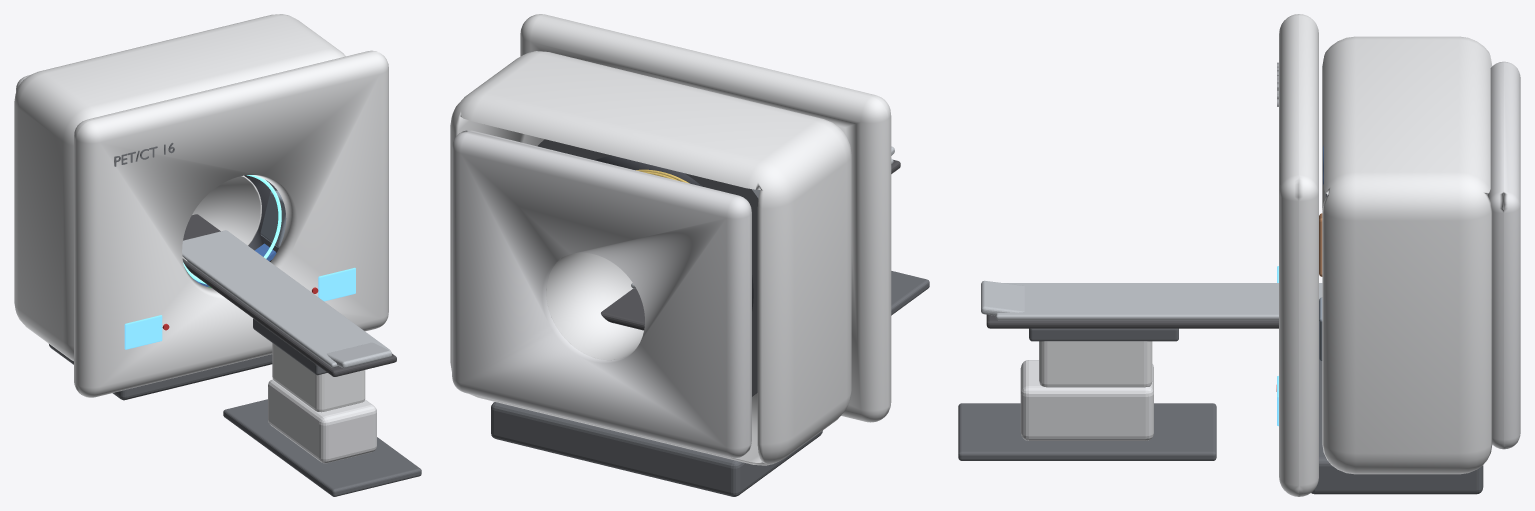
File: petct.glb
3 views of the same model, side by side, from view 1: azimuth 30°, elevation 25°; view 2: azimuth 150°, elevation 25°; view 3: azimuth 270°, elevation 25° (orthographic). The views are drawn at different scales.
Parts seen in each view (by area): view 1: fascia, housing_full, pad, tbl_base, tbl_col1, tbl_col2, bore_liner, pallet, gantry_base, emit_panel_l, headrest, emit_panel_r (+4 smaller); view 2: rear_cap, housing_full, fascia, gantry_base, bore_liner, stator_ring, pallet, tbl_base, ct_rotor; view 3: housing_full, fascia, rear_cap, pad, tbl_base, tbl_col1, tbl_col2, gantry_base, pallet, tbl_carriage, headrest.
Part boxes in pixels (x1=…): fascia: x1=74, y1=50, x2=388, y2=397; housing_full: x1=14, y1=14, x2=345, y2=361; pad: x1=182, y1=230, x2=390, y2=367; tbl_base: x1=223, y1=399, x2=421, y2=496; tbl_col1: x1=268, y1=379, x2=376, y2=463; tbl_col2: x1=272, y1=343, x2=365, y2=412; bore_liner: x1=182, y1=175, x2=261, y2=262; pallet: x1=182, y1=214, x2=396, y2=376; gantry_base: x1=49, y1=344, x2=272, y2=400; emit_panel_l: x1=124, y1=315, x2=162, y2=349; headrest: x1=327, y1=342, x2=391, y2=368; emit_panel_r: x1=318, y1=267, x2=355, y2=301; rear_cap: x1=452, y1=130, x2=751, y2=457; housing_full: x1=450, y1=51, x2=851, y2=465; fascia: x1=520, y1=14, x2=891, y2=422; gantry_base: x1=491, y1=402, x2=822, y2=496; bore_liner: x1=546, y1=252, x2=643, y2=360; stator_ring: x1=537, y1=139, x2=760, y2=396; pallet: x1=601, y1=160, x2=900, y2=330; tbl_base: x1=891, y1=271, x2=929, y2=315; ct_rotor: x1=595, y1=155, x2=753, y2=310; housing_full: x1=1322, y1=36, x2=1492, y2=474; fascia: x1=1279, y1=14, x2=1318, y2=496; rear_cap: x1=1487, y1=61, x2=1520, y2=449; pad: x1=995, y1=283, x2=1322, y2=320; tbl_base: x1=958, y1=403, x2=1216, y2=460; tbl_col1: x1=1020, y1=360, x2=1153, y2=440; tbl_col2: x1=1039, y1=341, x2=1152, y2=387; gantry_base: x1=1311, y1=359, x2=1483, y2=494; pallet: x1=986, y1=314, x2=1278, y2=328; tbl_carriage: x1=1029, y1=328, x2=1178, y2=341; headrest: x1=981, y1=280, x2=1024, y2=315.
Bounding box in the file's own units: 2.5 × 2.26 × 3.37.
